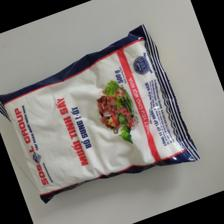Salt: (1, 23, 199, 204)
